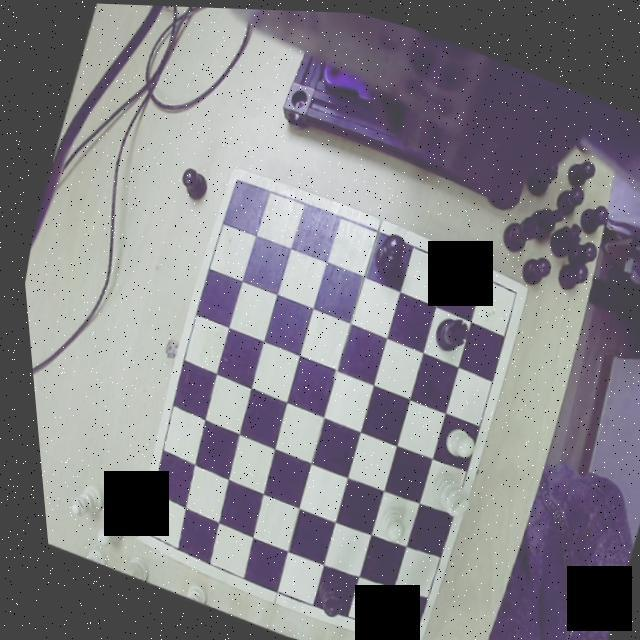chess-table-corners: (221, 167, 252, 199), (492, 273, 522, 304), (126, 520, 154, 548), (390, 615, 416, 640)
